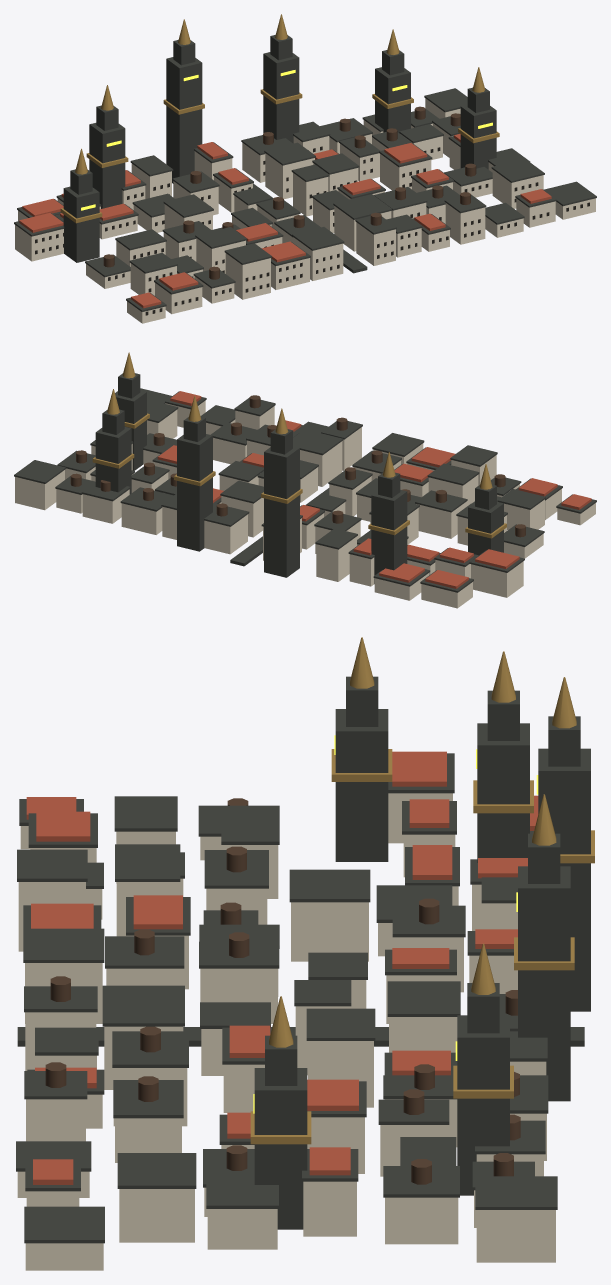
The model's file is ordo_back.glb.
3 views of the same model, one above another, from view 1: azimuth 30°, elevation 25°; view 2: azimuth 150°, elevation 25°; view 3: azimuth 270°, elevation 25° (orthographic). The views are drawn at different scales.
Visible parts, largest first — view 1: ordo_back; view 2: ordo_back; view 3: ordo_back.
Boxes of the visible parts, x1,y1,x2,y2 form: ordo_back: (14,14,596,323); ordo_back: (14,352,596,608); ordo_back: (16,637,594,1270).
Size of the model in its own units: 108 by 35.3 by 57.17.
